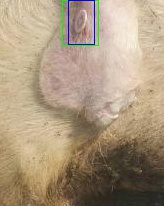text: (62, 0, 98, 45)
